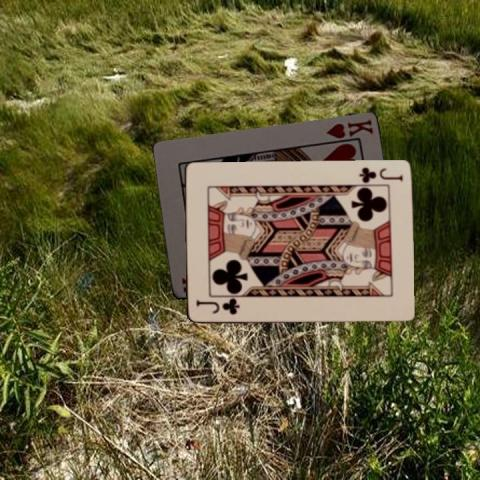Jc: (356, 164, 404, 184), (192, 298, 241, 317)
Kh: (322, 116, 374, 140)
